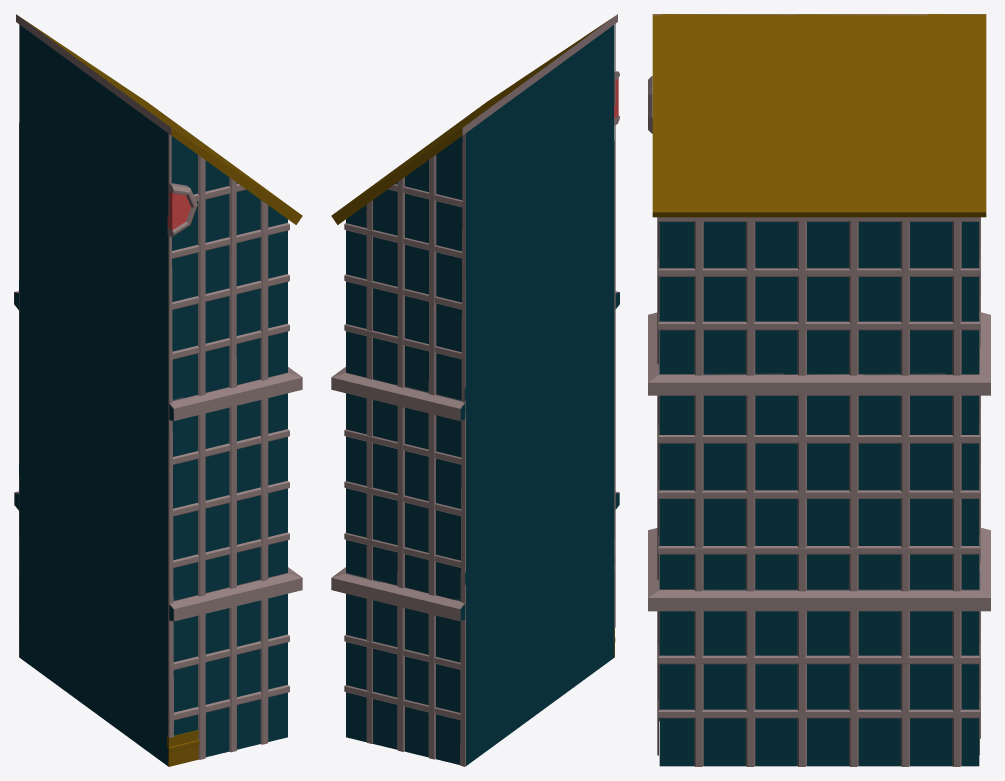
File: Building_HalfSection_02.glb
3 renders of one model, left to right at view 1: azimuth 30°, elevation 25°; view 2: azimuth 150°, elevation 25°; view 3: azimuth 270°, elevation 25°, orthographic. The views are drawn at different scales.
Parts seen in each view (by area): view 1: Building_HalfSection_02; view 2: Building_HalfSection_02; view 3: Building_HalfSection_02.
Part boxes in pixels (x1,y1,x2,y2): Building_HalfSection_02: [14, 14, 302, 766]; Building_HalfSection_02: [331, 14, 619, 766]; Building_HalfSection_02: [648, 14, 990, 766].
Bounding box in the file's own units: 5.1 × 23.74 × 10.7.
1 material, 1 textured.
